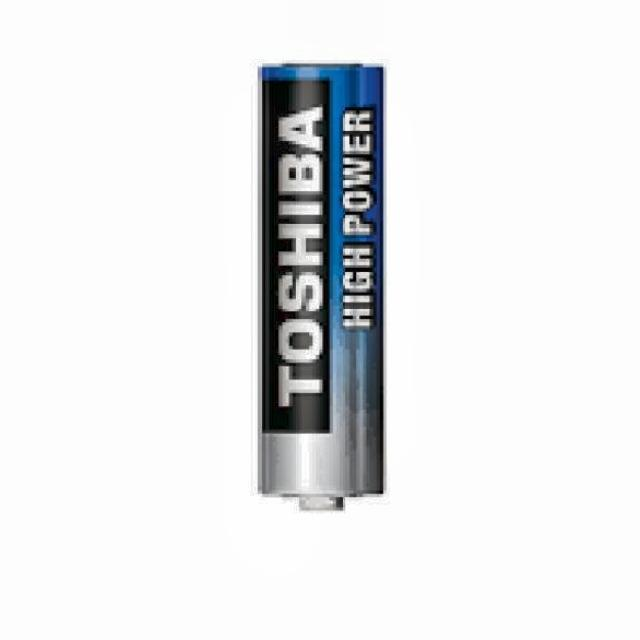battery: (262, 61, 386, 511)
